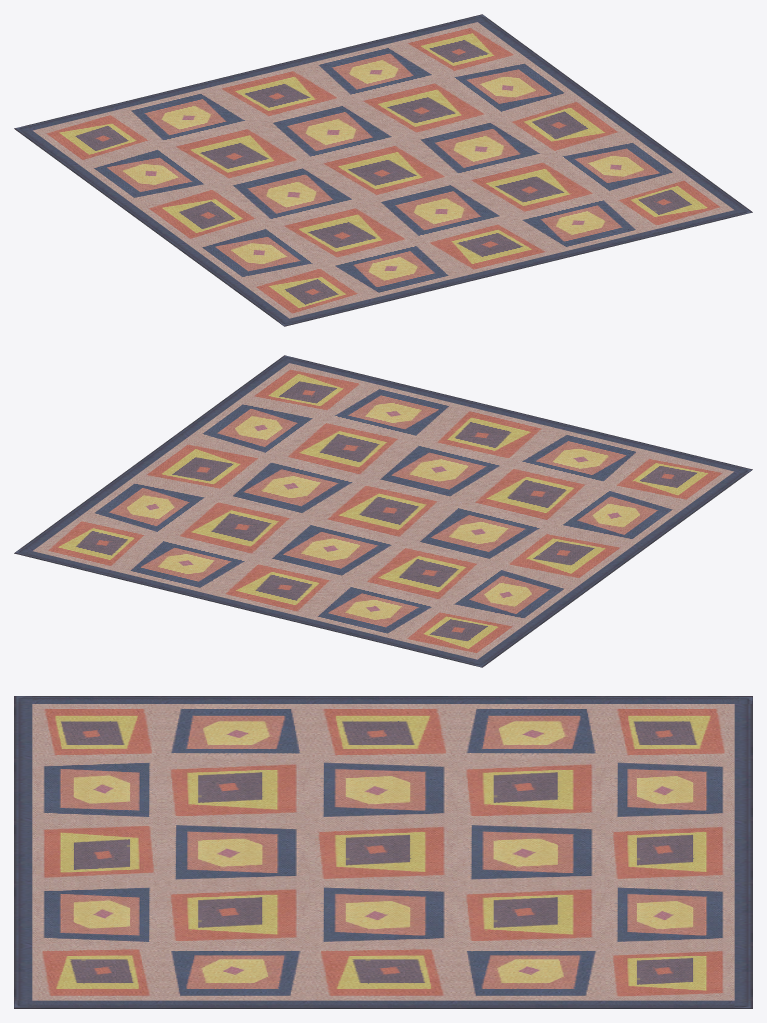
3 views of the same model, one above another, from view 1: azimuth 30°, elevation 25°; view 2: azimuth 150°, elevation 25°; view 3: azimuth 270°, elevation 25° (orthographic). The views are drawn at different scales.
Visible parts, largest first — view 1: Joint_0_Object_0; view 2: Joint_0_Object_0; view 3: Joint_0_Object_0.
Part boxes in pixels (box(x1,y1,x2,y2)): Joint_0_Object_0: box(14, 14, 752, 326); Joint_0_Object_0: box(14, 355, 752, 667); Joint_0_Object_0: box(14, 696, 752, 1008).
Bounding box in the file's own units: 4000 × 2.22 × 4000.
